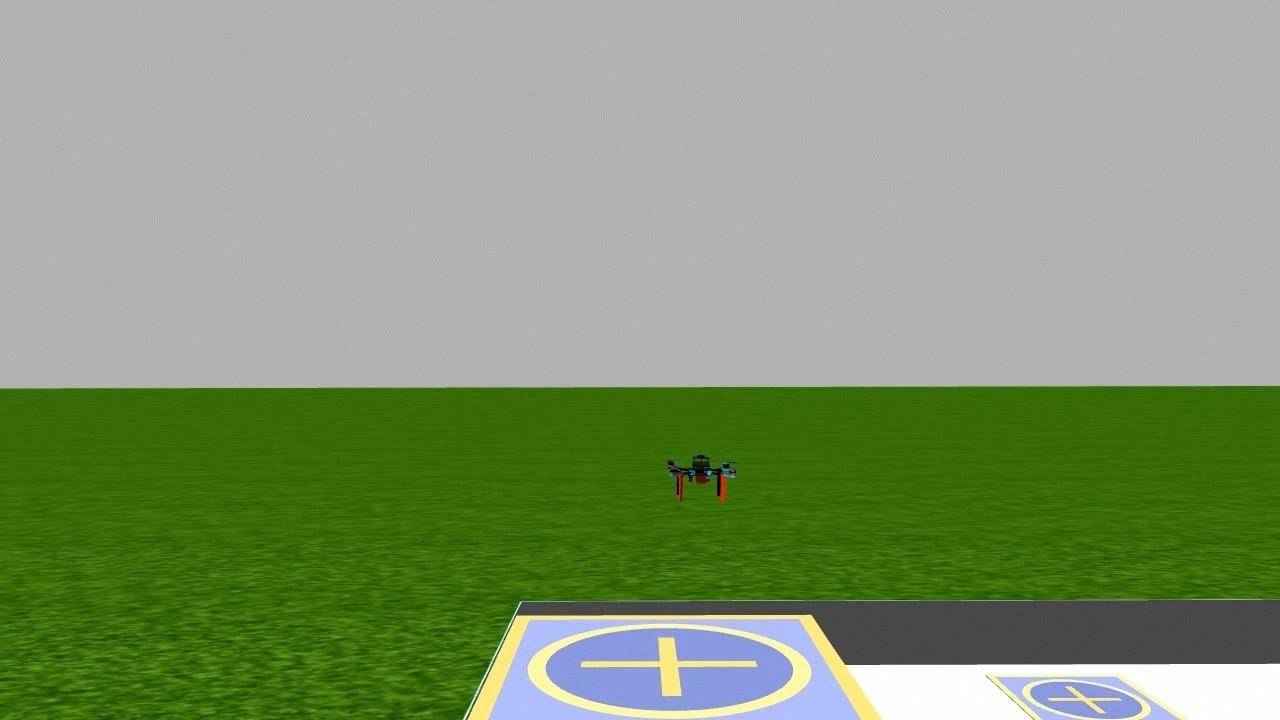UAV: (654, 436, 750, 518)
